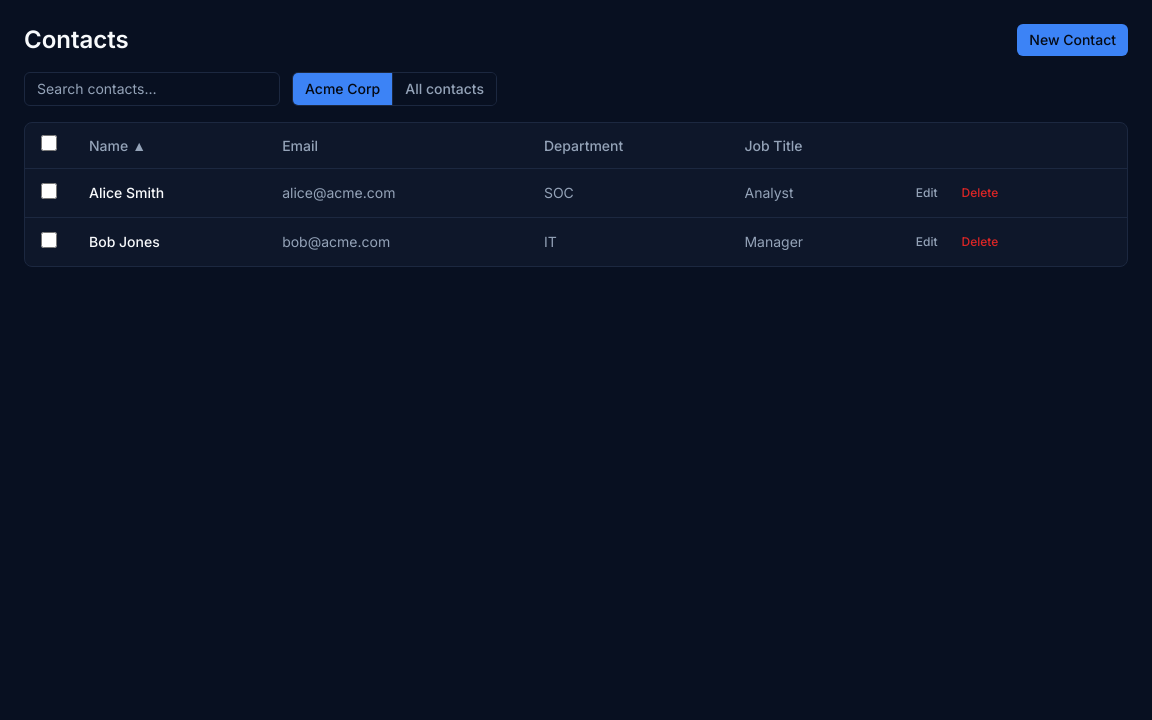
Test: ContactsPage › opens create modal when New Contact is clicked
The width and height of the screenshot is (1152, 720).
Step 1. Click the button "New Contact" → (1073, 40), box 1017,24 -> 1128,56
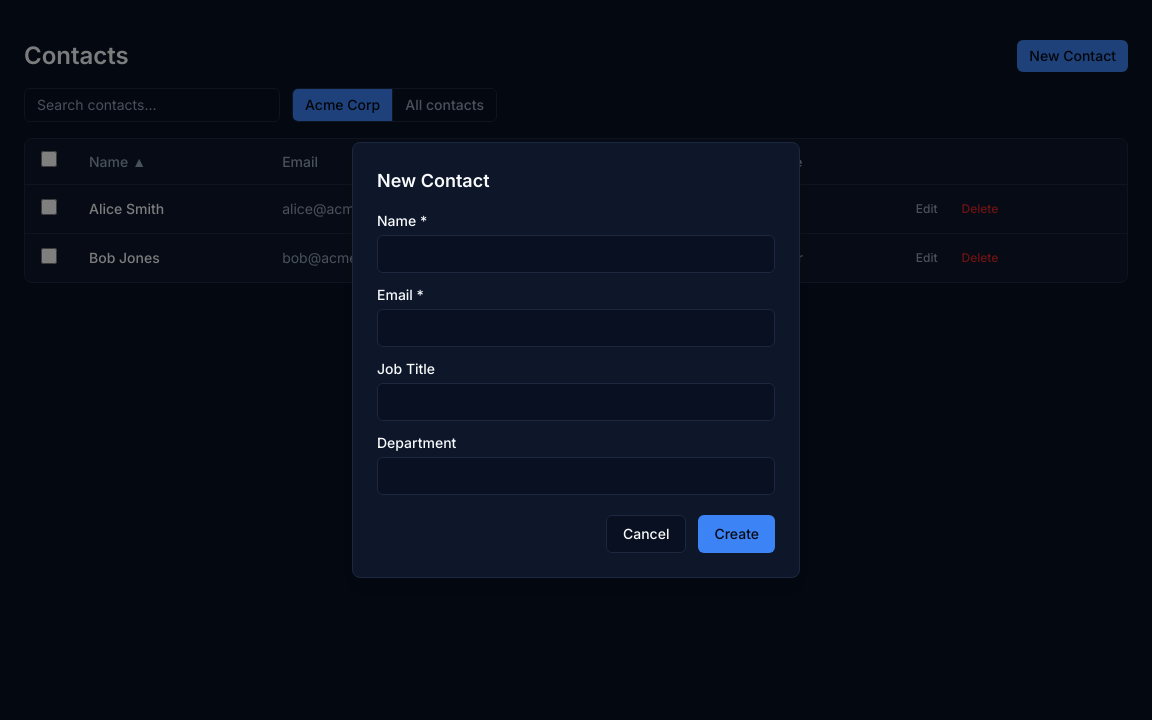
Now the heading "New Contact" is shown, box 377,170 -> 490,191
